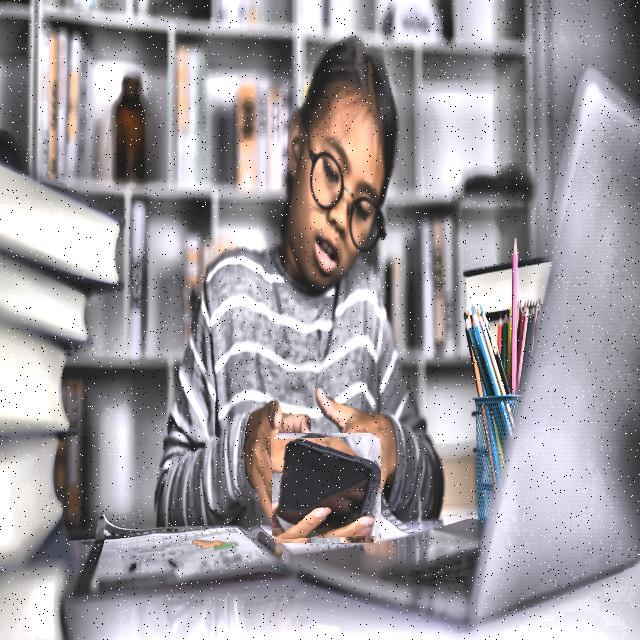Phone: (272, 435, 380, 541)
